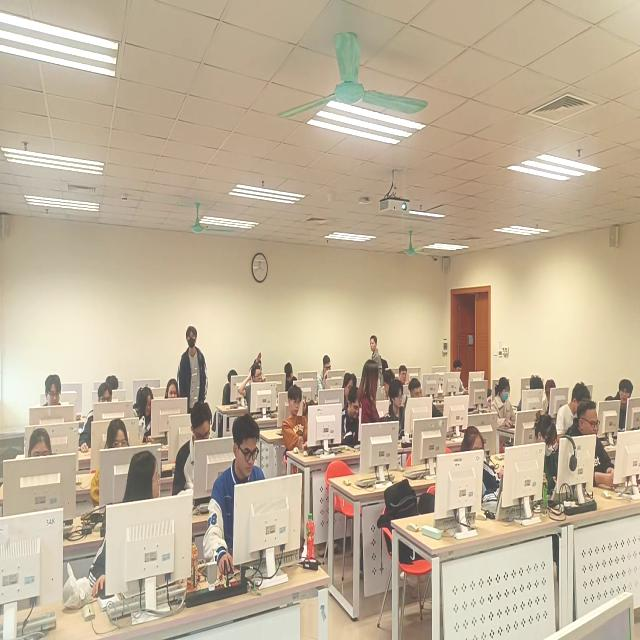raise_hand: (239, 365, 268, 416), (250, 353, 263, 380)
raise_head: (165, 380, 180, 400), (399, 366, 408, 386)
sleep: (304, 396, 319, 419)
stand: (178, 327, 209, 415), (360, 360, 381, 425), (371, 335, 390, 388)
using_computer: (203, 412, 266, 579), (566, 401, 616, 489), (173, 402, 213, 502), (91, 418, 130, 513), (461, 427, 502, 503), (80, 383, 114, 455), (557, 383, 592, 443), (534, 413, 559, 493), (283, 386, 309, 452), (410, 378, 445, 418), (491, 378, 518, 428), (134, 385, 154, 445), (342, 386, 362, 445), (389, 381, 407, 441), (29, 428, 52, 459), (43, 374, 63, 406), (454, 360, 471, 396), (223, 369, 239, 407), (318, 356, 332, 397), (382, 369, 396, 401), (286, 363, 299, 394), (343, 374, 354, 407), (106, 374, 120, 391), (605, 396, 616, 404), (352, 374, 358, 387)
